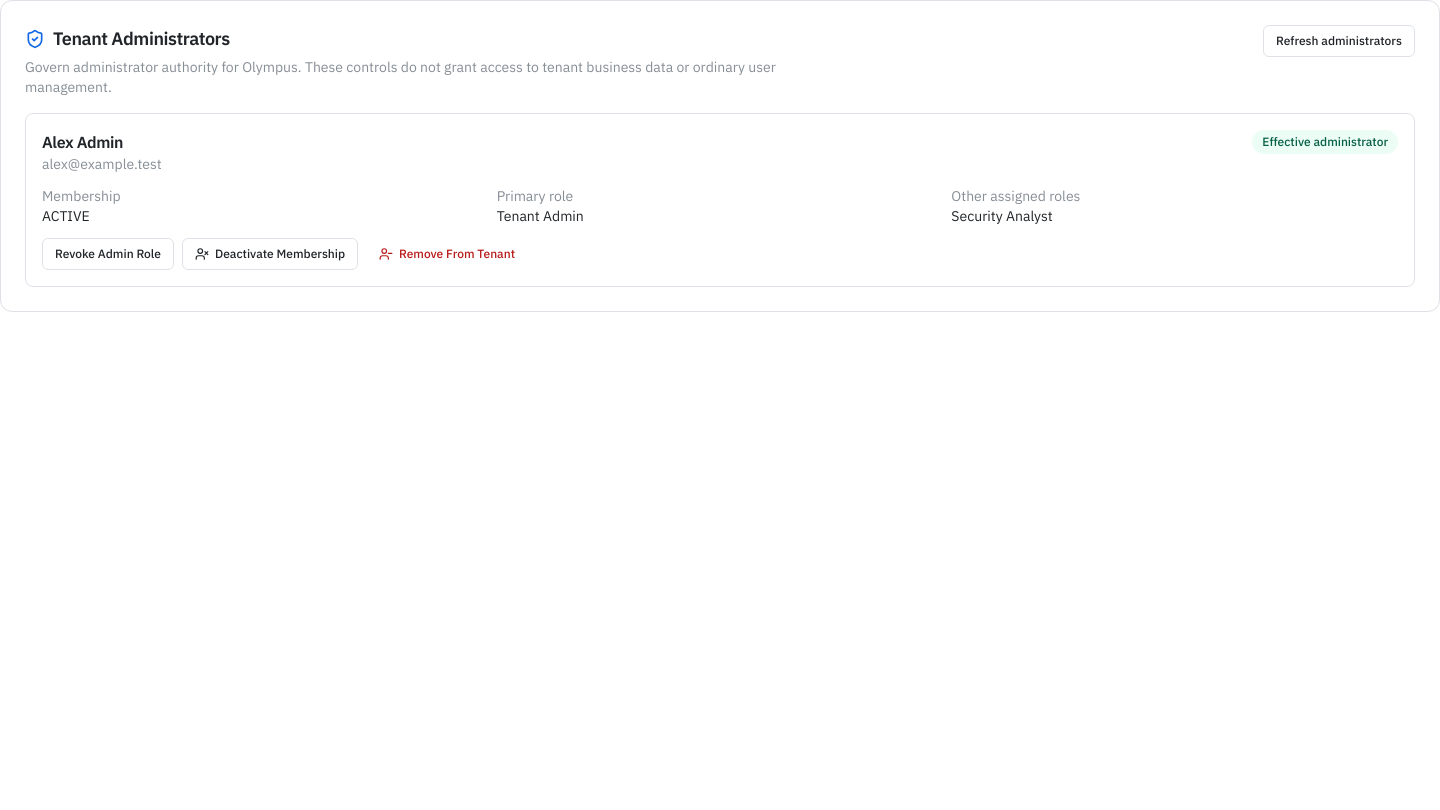
Test: blocks primary revocation when the catalogue has no ordinary assignable roles
The image size is (1440, 810).
Expected: the heading "Alex Admin" is shown, [42,132,123,152]
Click the button "Revoke Admin Role": {"x": 108, "y": 254} [42,238,174,270]
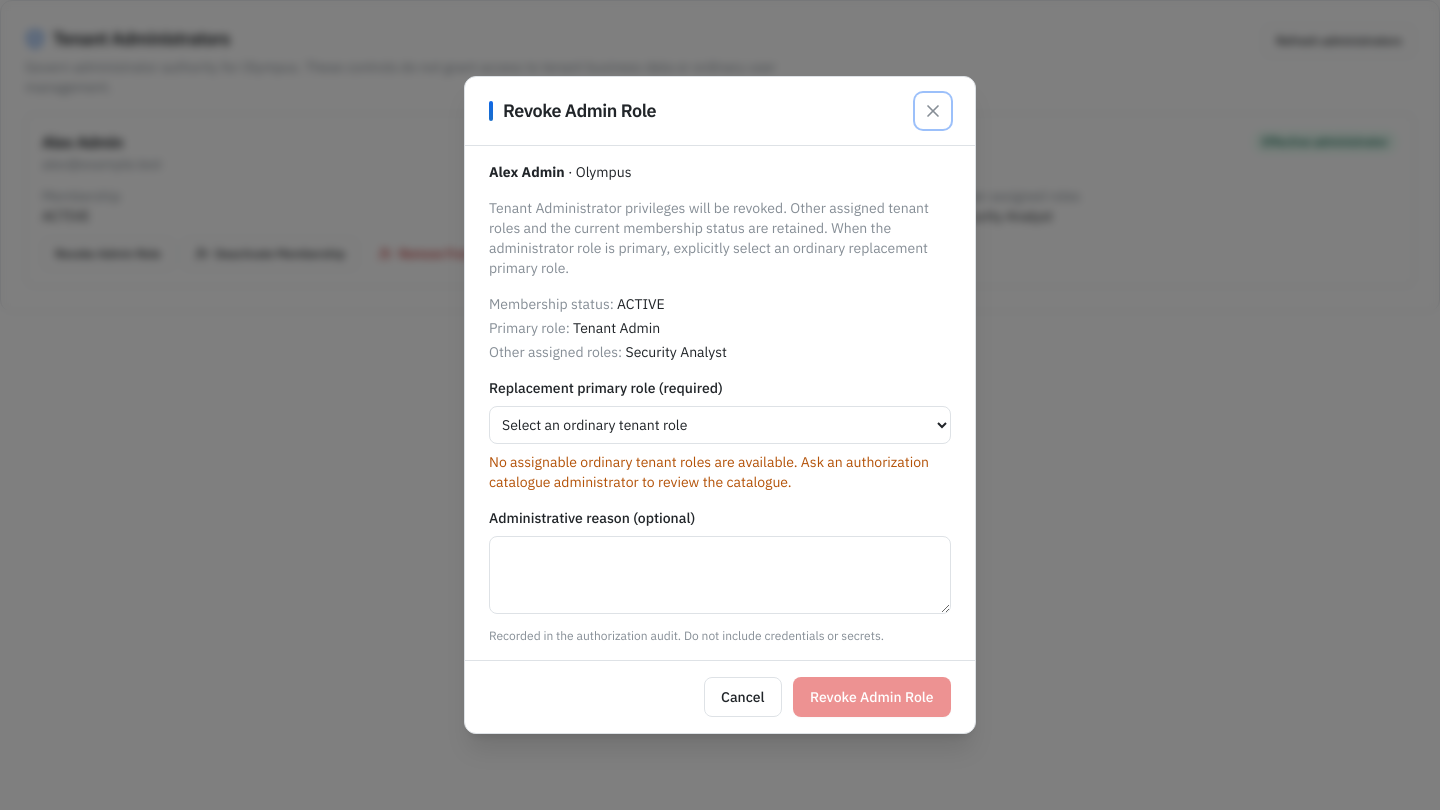
Expected: the text "No assignable ordinary tenant roles" is shown, [489,453,929,491]
Expected: the button "Revoke Admin Role" is disabled, [793,677,951,717]
